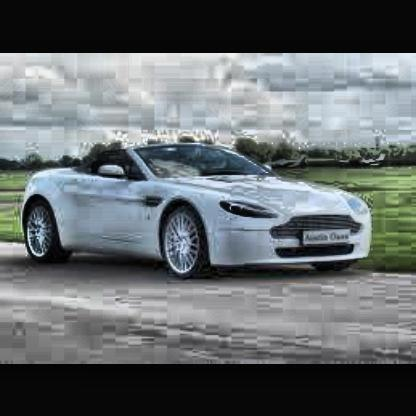Aston Martin V8 Vantage Convertible 2012: (20, 130, 370, 305)
